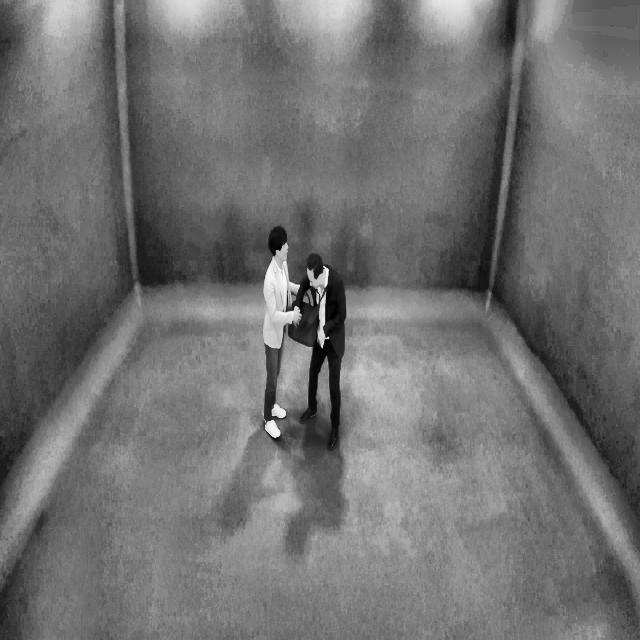assult: (255, 215, 352, 463)
